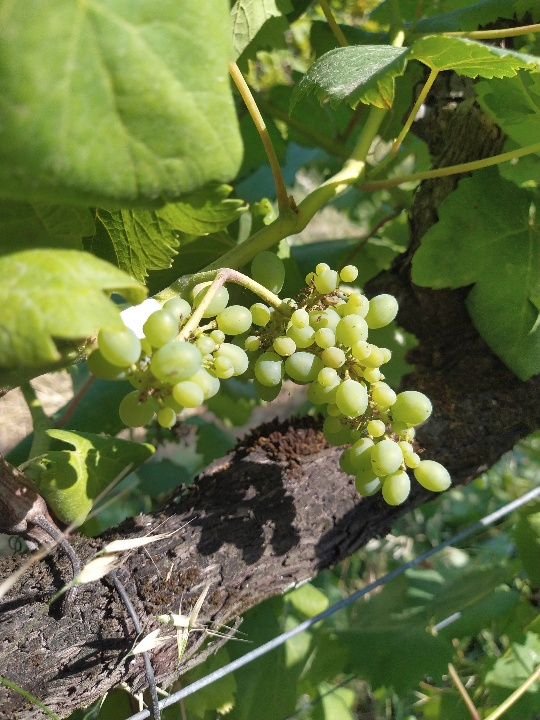grape: (82, 249, 457, 509)
